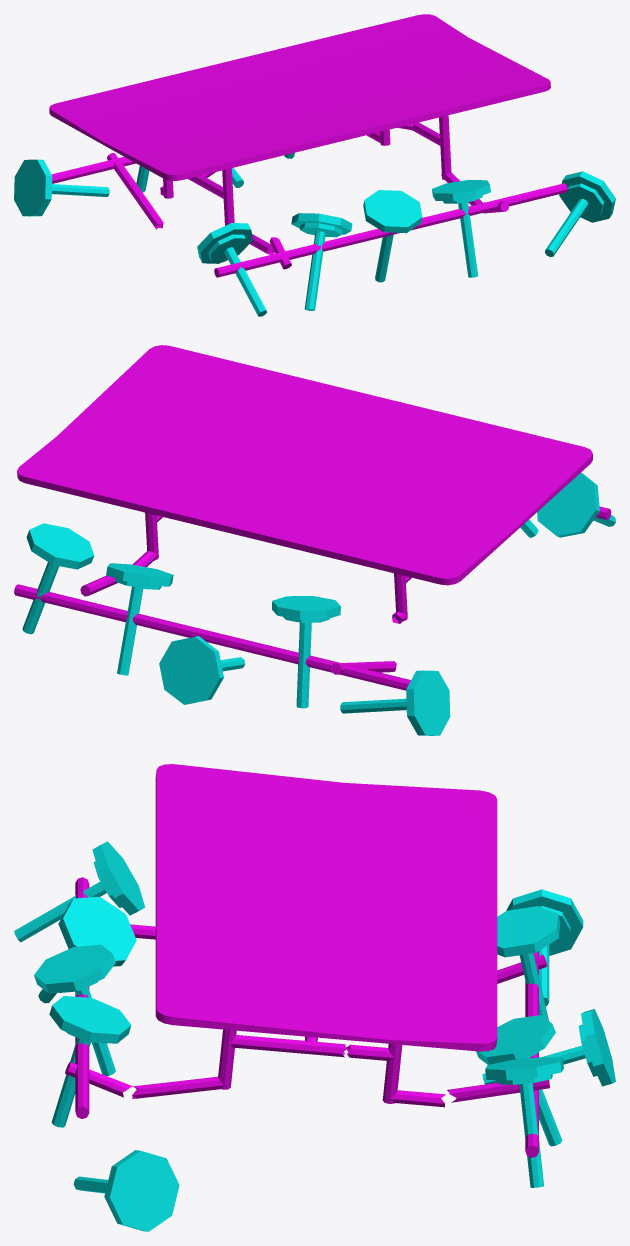
Rendered from Mesa_Refeitório_Quebrada.fbx.
The picture shows the model from 3 angles, top to bottom: view 1: azimuth 30°, elevation 25°; view 2: azimuth 150°, elevation 25°; view 3: azimuth 270°, elevation 25°; orthographic projection. The views are drawn at different scales.
Parts seen in each view (by area): view 1: Mesa1; view 2: Mesa1; view 3: Mesa1.
Boxes of the visible parts, x1=… form: Mesa1: x1=14, y1=14, x2=615, y2=316; Mesa1: x1=14, y1=345, x2=615, y2=735; Mesa1: x1=14, y1=764, x2=615, y2=1231.
Size of the model in its own units: 3.39 by 1.14 by 3.01.
